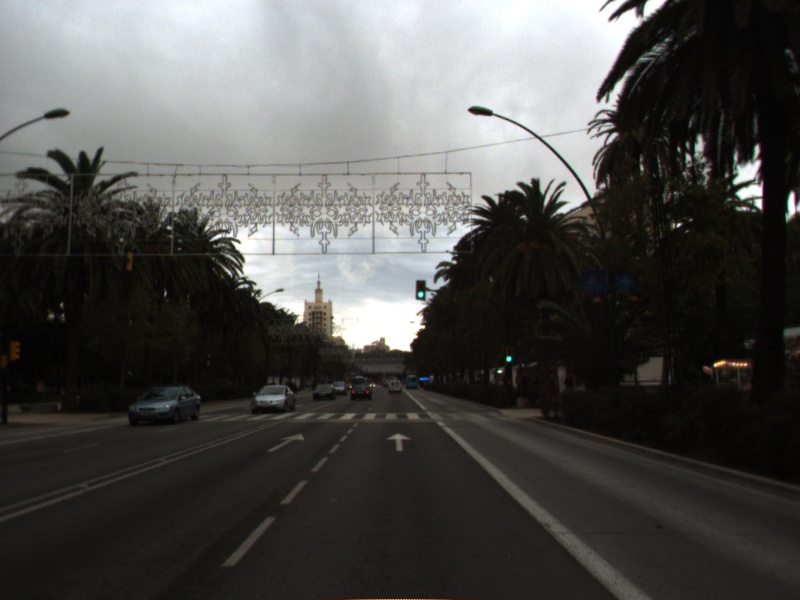STRAIGHT: (264, 431, 307, 454), (385, 431, 413, 453)
